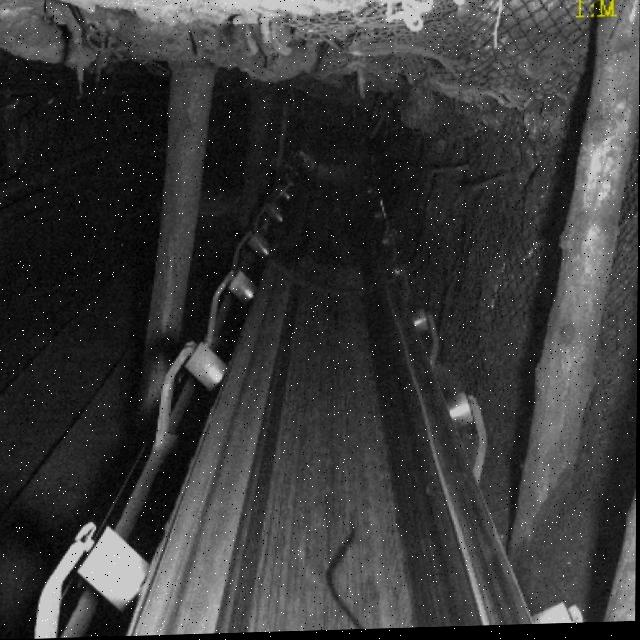bolt: (325, 513, 386, 632)
